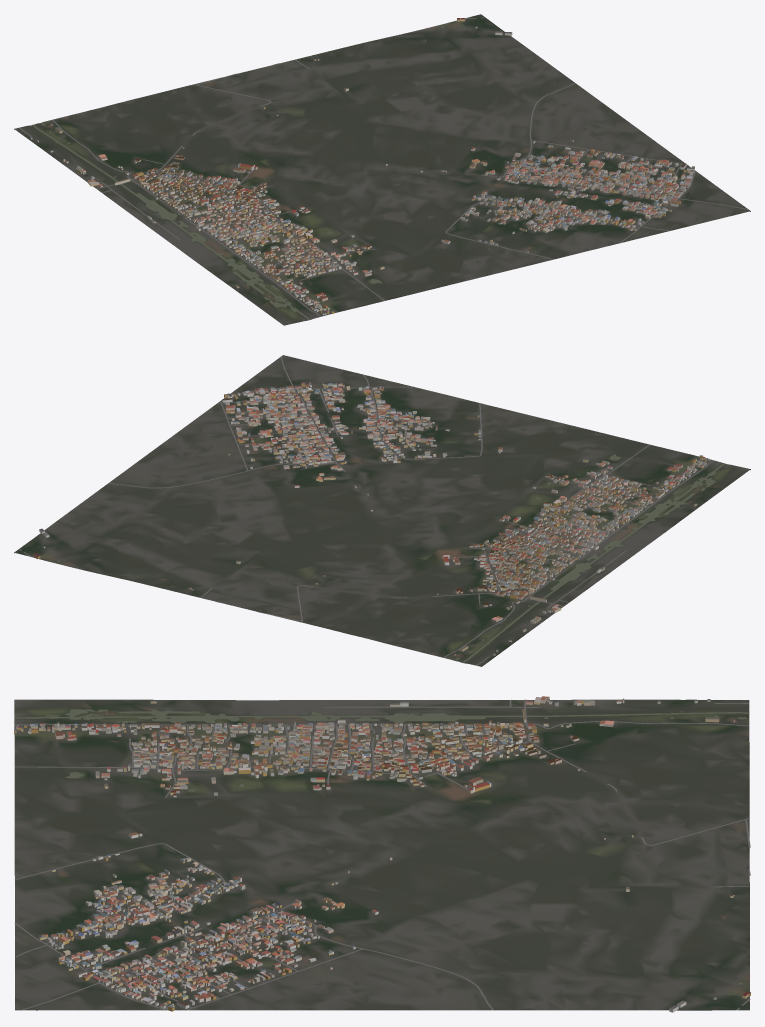
3 renders of one model, top to bottom at view 1: azimuth 30°, elevation 25°; view 2: azimuth 150°, elevation 25°; view 3: azimuth 270°, elevation 25°, orthographic. The views are drawn at different scales.
Parts seen in each view (by area): view 1: ground, buildings, roads, water; view 2: ground, buildings, roads, water; view 3: ground, buildings, roads, water.
Part boxes in pixels (x1=…): ground: x1=14, y1=14, x2=750, y2=325; buildings: x1=29, y1=18, x2=694, y2=315; roads: x1=19, y1=17, x2=748, y2=316; water: x1=32, y1=27, x2=444, y2=319; ground: x1=14, y1=355, x2=750, y2=666; buildings: x1=33, y1=382, x2=710, y2=655; roads: x1=18, y1=356, x2=713, y2=665; water: x1=58, y1=454, x2=725, y2=662; ground: x1=14, y1=699, x2=749, y2=1010; buildings: x1=14, y1=696, x2=750, y2=1012; roads: x1=14, y1=699, x2=750, y2=1010; water: x1=14, y1=709, x2=749, y2=984.
Size of the model in its own units: 1417 by 16.81 by 1406.
